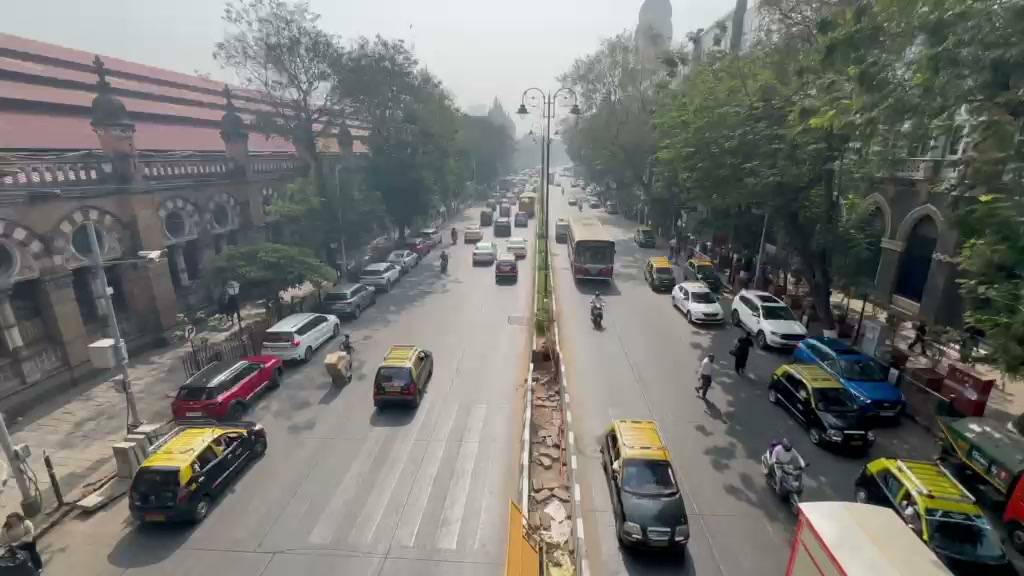bus: (567, 214, 617, 285)
car: (854, 457, 1017, 572), (128, 423, 268, 526), (602, 417, 691, 552), (794, 335, 907, 425), (766, 360, 872, 452), (170, 353, 283, 422), (731, 289, 809, 351), (261, 311, 340, 367), (372, 344, 434, 411), (671, 281, 725, 327), (318, 280, 377, 321), (645, 257, 680, 294), (359, 261, 401, 291), (471, 239, 498, 268), (386, 248, 419, 271), (493, 257, 519, 285)
motorcycle: (762, 441, 806, 505), (764, 460, 806, 506), (590, 296, 606, 330)
pedestrian: (1, 511, 43, 572), (730, 333, 753, 373)
truck: (854, 456, 1015, 573), (936, 414, 1024, 564), (784, 501, 952, 575), (766, 361, 873, 453), (568, 215, 617, 281)
